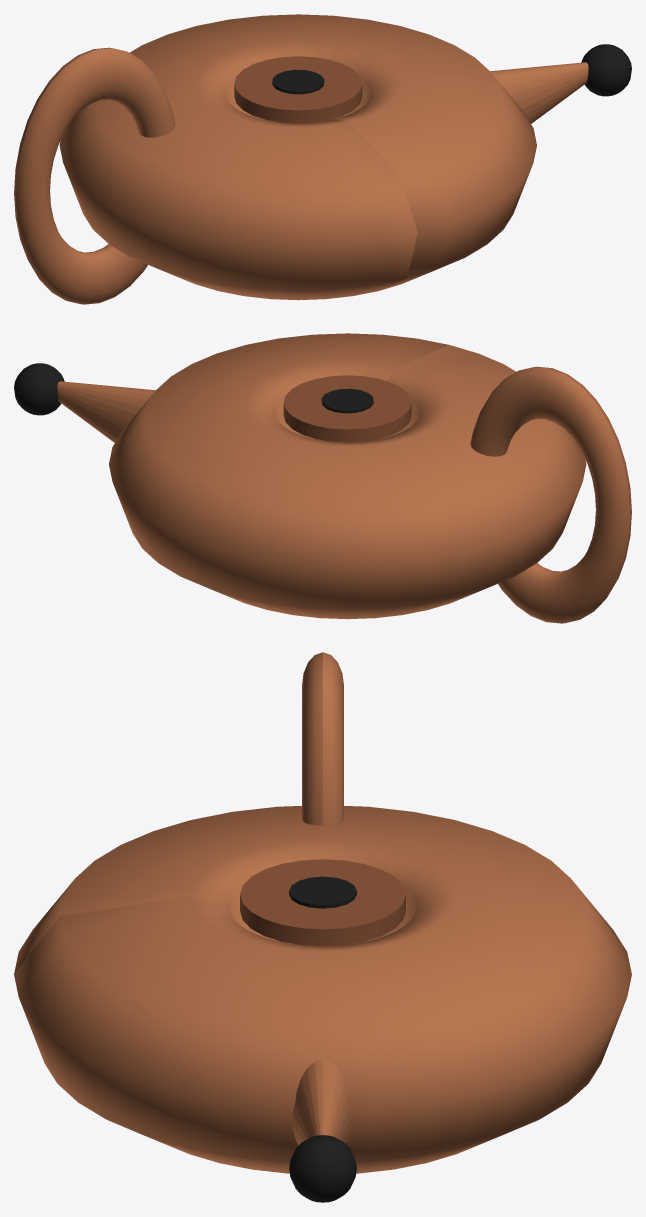
3 renders of one model, top to bottom at view 1: azimuth 30°, elevation 25°; view 2: azimuth 150°, elevation 25°; view 3: azimuth 270°, elevation 25°, orthographic. The views are drawn at different scales.
Parts seen in each view (by area): view 1: OBJ-001 — DEMO NON_VALIDE; view 2: OBJ-001 — DEMO NON_VALIDE; view 3: OBJ-001 — DEMO NON_VALIDE.
Boxes of the visible parts, x1=… form: OBJ-001 — DEMO NON_VALIDE: x1=14, y1=14, x2=631, y2=304; OBJ-001 — DEMO NON_VALIDE: x1=14, y1=333, x2=631, y2=623; OBJ-001 — DEMO NON_VALIDE: x1=14, y1=652, x2=631, y2=1202.
Bounding box in the file's own units: 2 × 0.7901 × 1.35.
